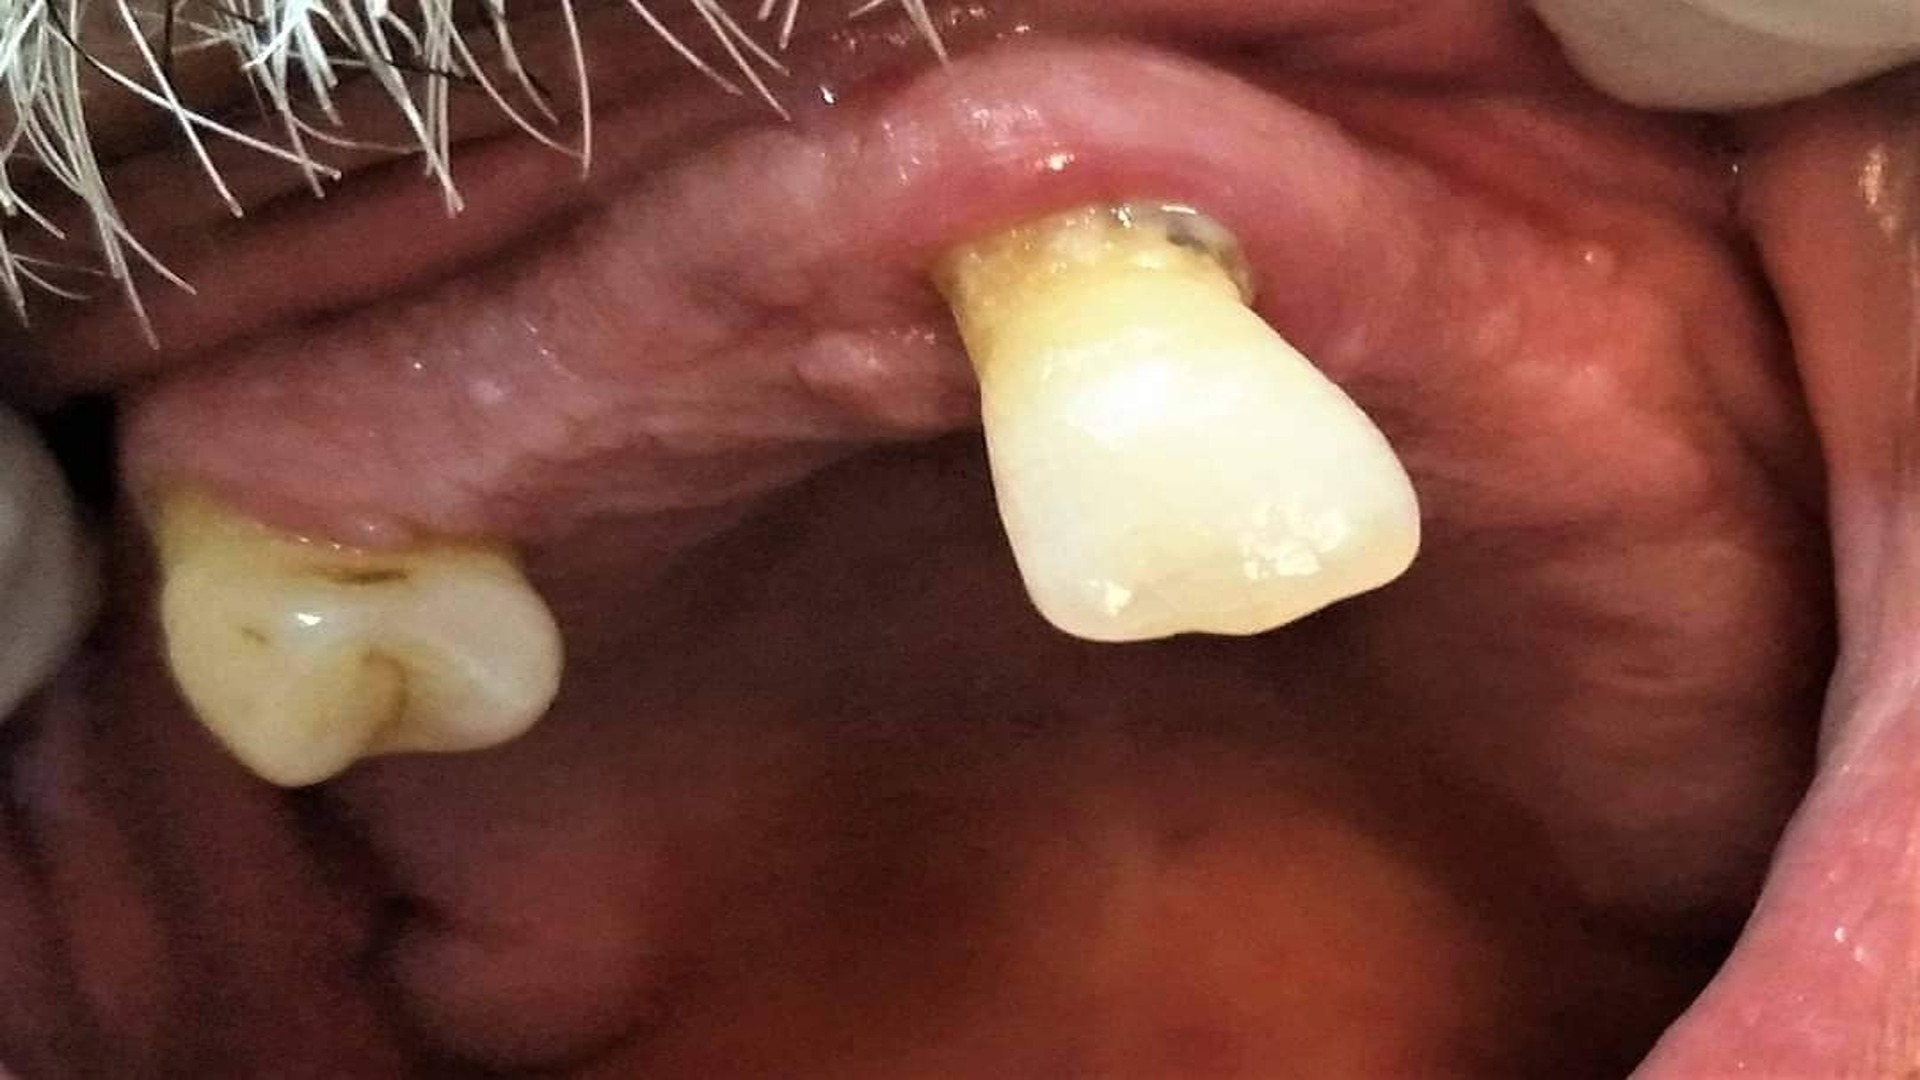tooth: (931, 204, 1422, 642), (144, 469, 567, 789)
